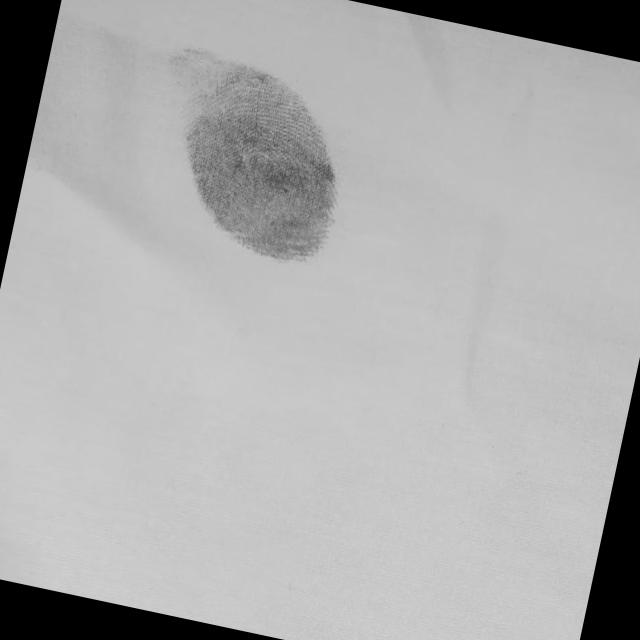Stain: (120, 40, 366, 276)
